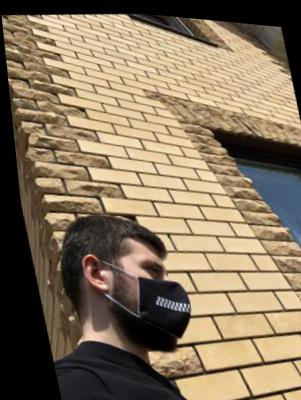WRONG: (110, 245, 184, 357)
